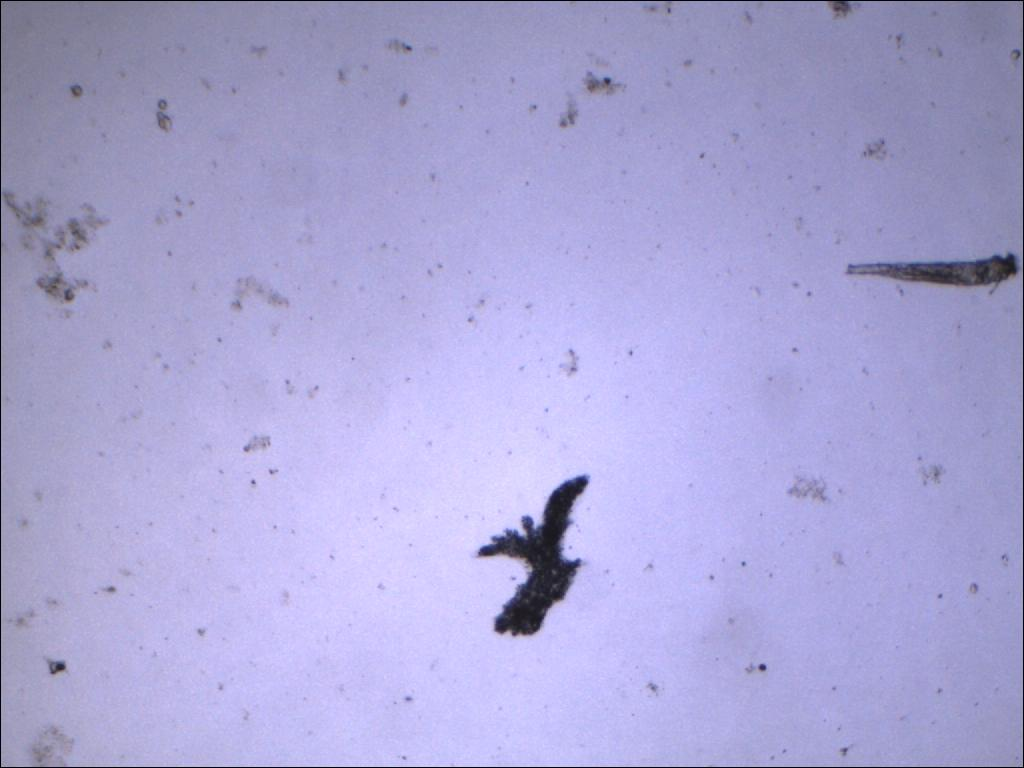amoeba: (467, 469, 596, 643)
